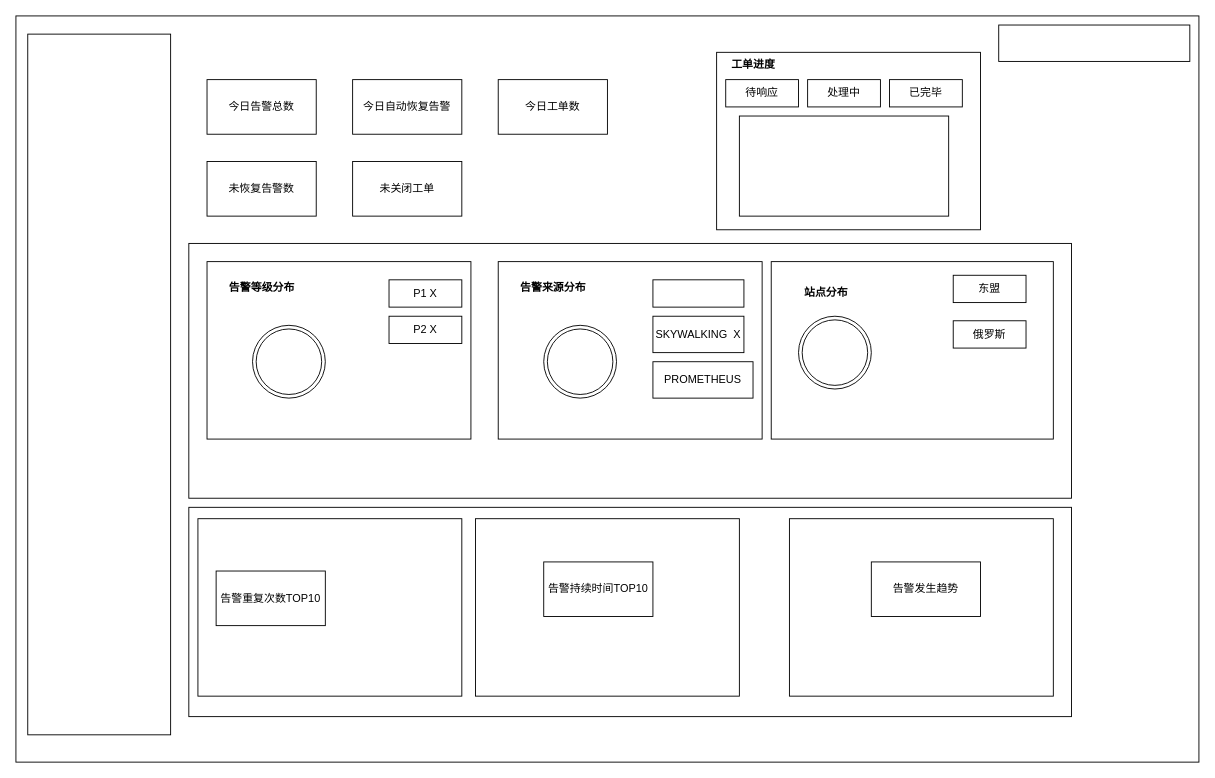
Image size: 1215x778. Some labels were removed from this diagram. The shapes that lost their labels are listed below. From the top down, each one's centre as x and y in pixels, then its label:
[1094,42]: 时间选择
[843,165]: 工单详情
[698,293]: AWS X
[99,384]: 报警中心 监控报表
